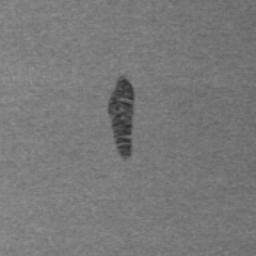Secondary rust skin: (107, 77, 135, 159)
